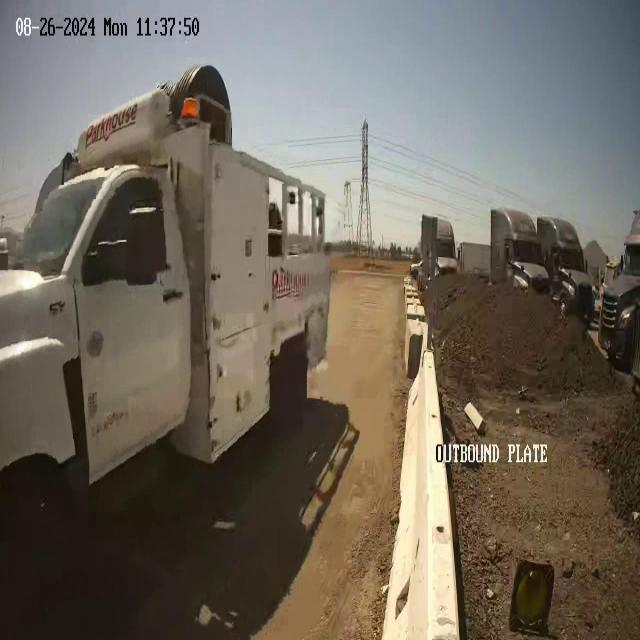TRUCK_OUT: (1, 63, 332, 499)
